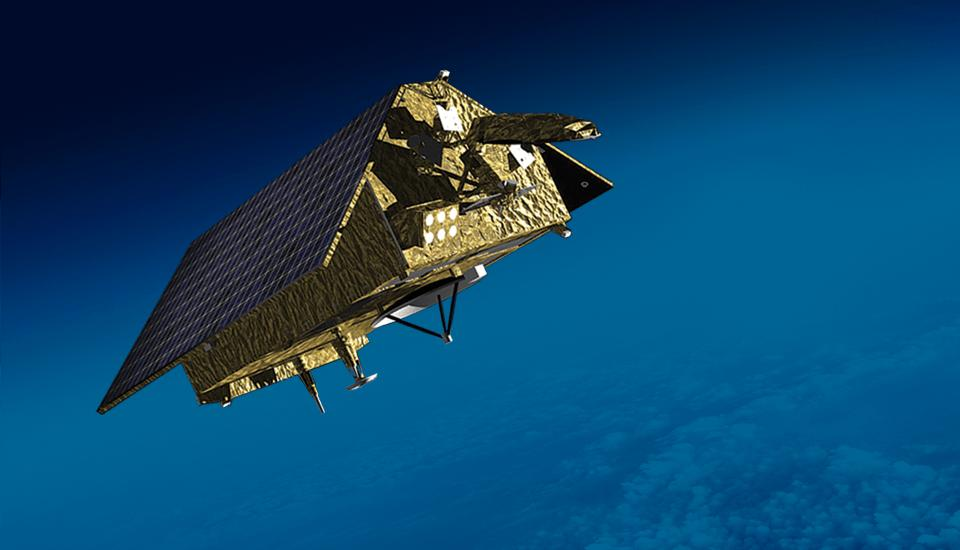antenna: (367, 272, 491, 346), (463, 109, 604, 170), (343, 371, 380, 393)
body: (176, 76, 576, 408)
solar: (94, 81, 408, 418), (534, 137, 620, 213)
